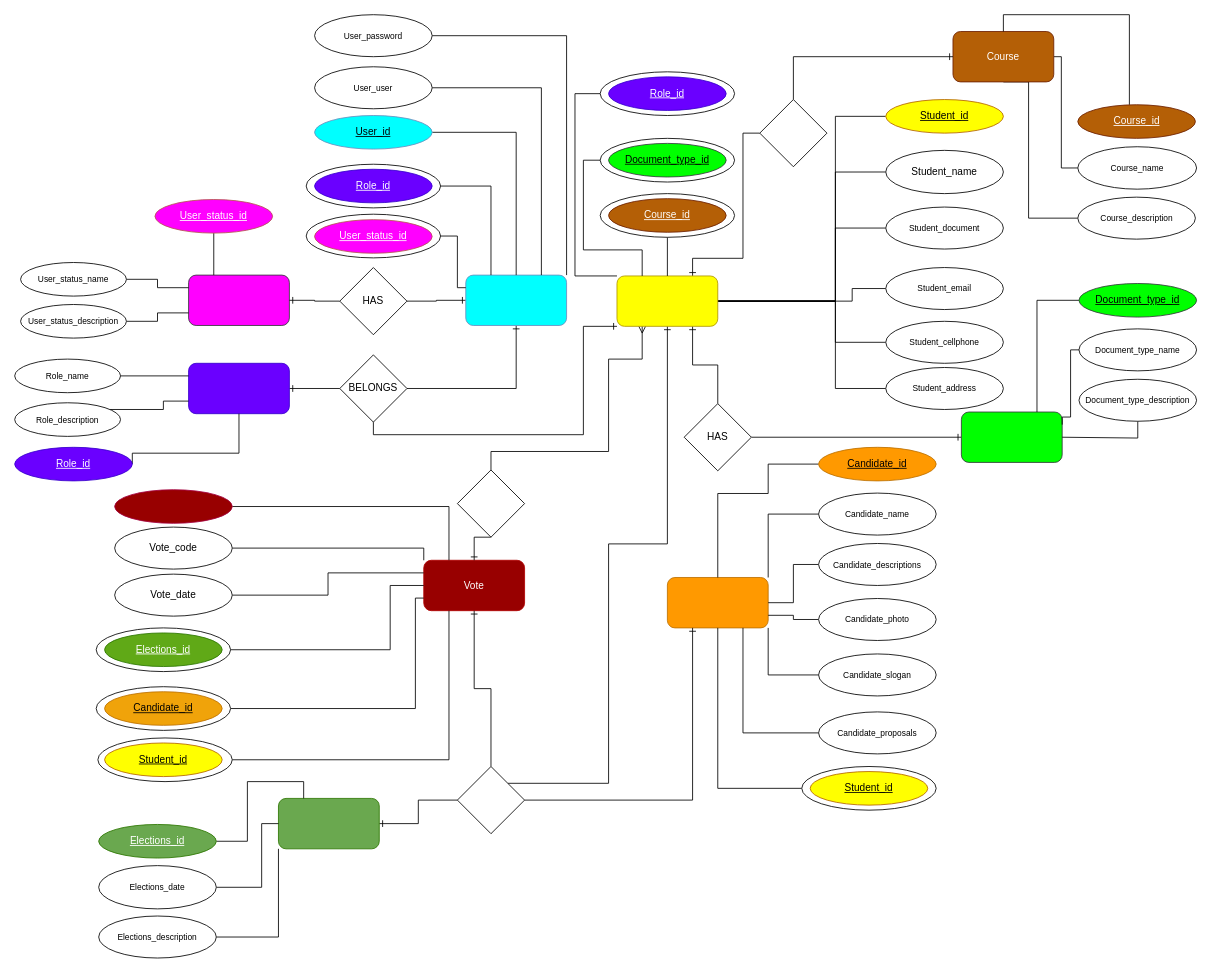
Some shapes in this 1211 by 973 pixel diagram are drawn without their labels. The shapes that lost their labels are listed below. From the top down, each one's centre as x and y in pixels, then its label:
At (x=793, y=133): "IS PART".
At (x=238, y=300): "User_status".
At (x=516, y=300): "User".
At (x=667, y=300): "Student".
At (x=238, y=388): "Role".
At (x=1011, y=436): "Document_type".
At (x=173, y=506): "Vote_id".
At (x=491, y=503): "MAKES".
At (x=717, y=602): "Candidate".
At (x=491, y=800): "CONTAINS".
At (x=328, y=823): "Elections".
